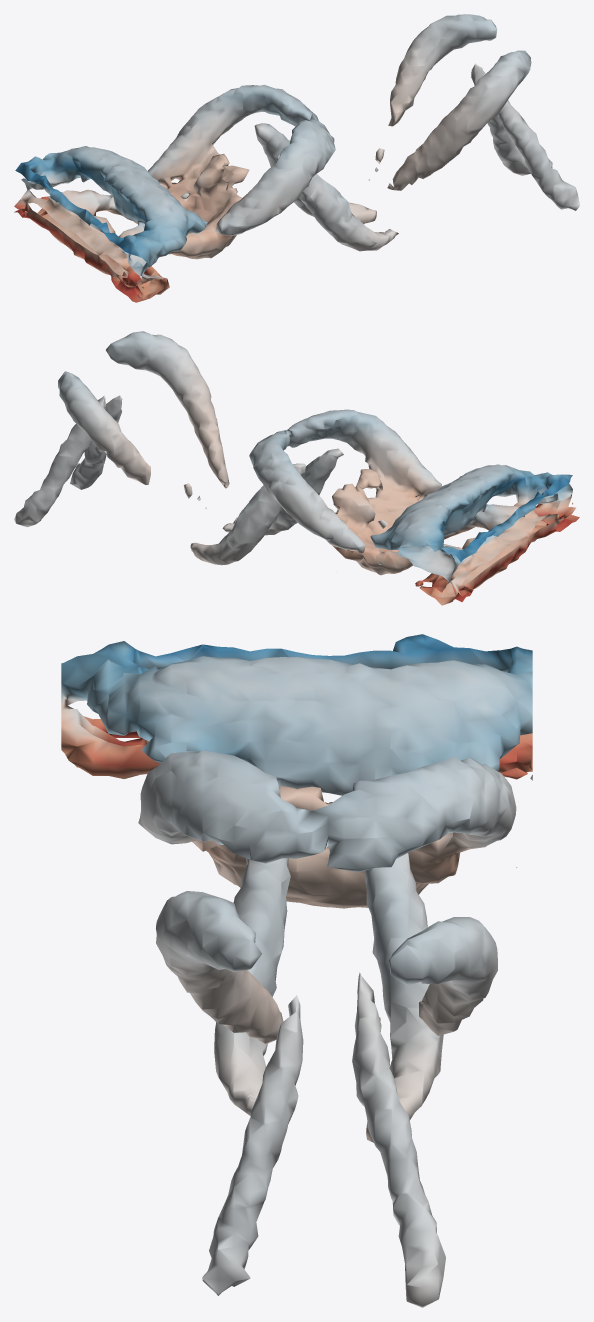
The picture shows the model from 3 angles, top to bottom: view 1: azimuth 30°, elevation 25°; view 2: azimuth 150°, elevation 25°; view 3: azimuth 270°, elevation 25°; orthographic projection. The views are drawn at different scales.
Size of the model in its own units: 5.85 by 2.01 by 2.5.
